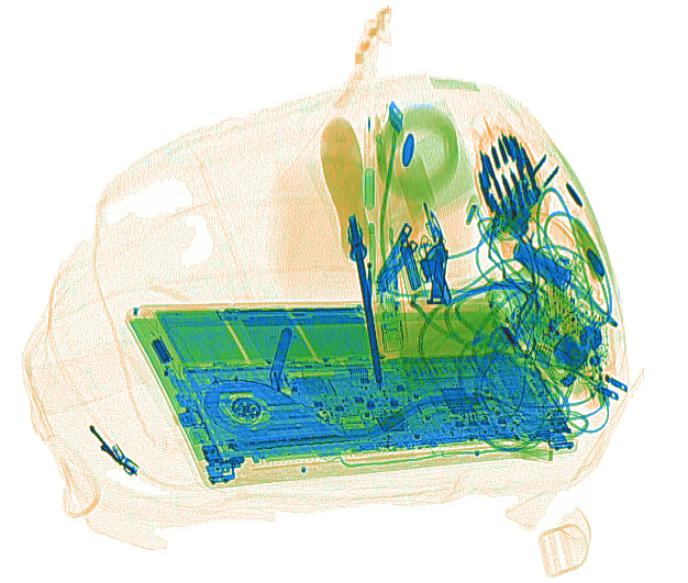battery: (512, 239, 573, 290)
